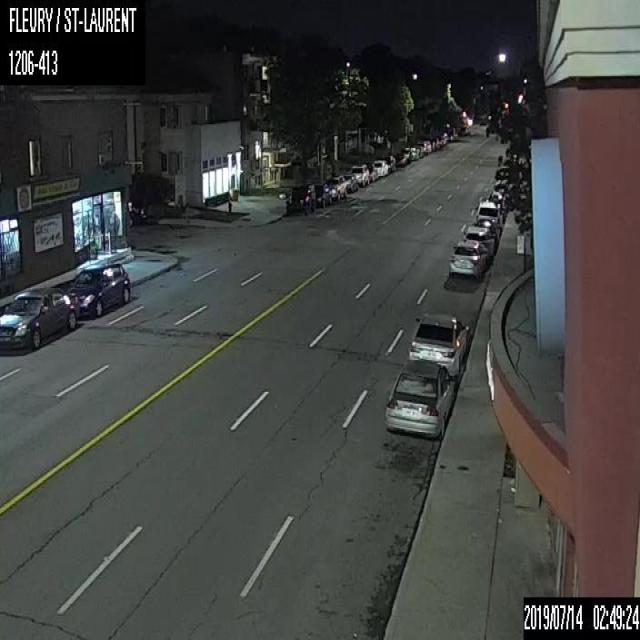vehicle: (383, 359, 455, 437), (0, 288, 79, 355), (406, 312, 469, 376), (63, 262, 130, 319), (448, 240, 488, 277), (463, 224, 494, 256), (286, 183, 314, 213), (475, 201, 502, 228), (474, 216, 499, 242), (324, 175, 346, 200), (348, 163, 368, 186), (314, 181, 331, 207), (342, 173, 358, 191), (372, 159, 388, 175), (365, 162, 377, 181), (400, 146, 411, 162), (384, 155, 395, 171), (414, 141, 426, 154), (394, 153, 406, 166), (409, 146, 419, 160), (414, 144, 423, 157), (424, 140, 431, 152)
